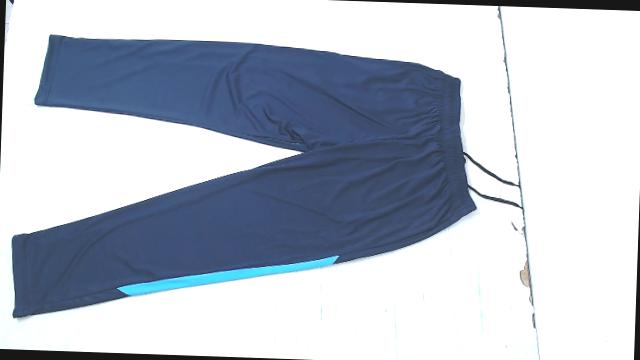new-garment: (12, 35, 475, 316)
